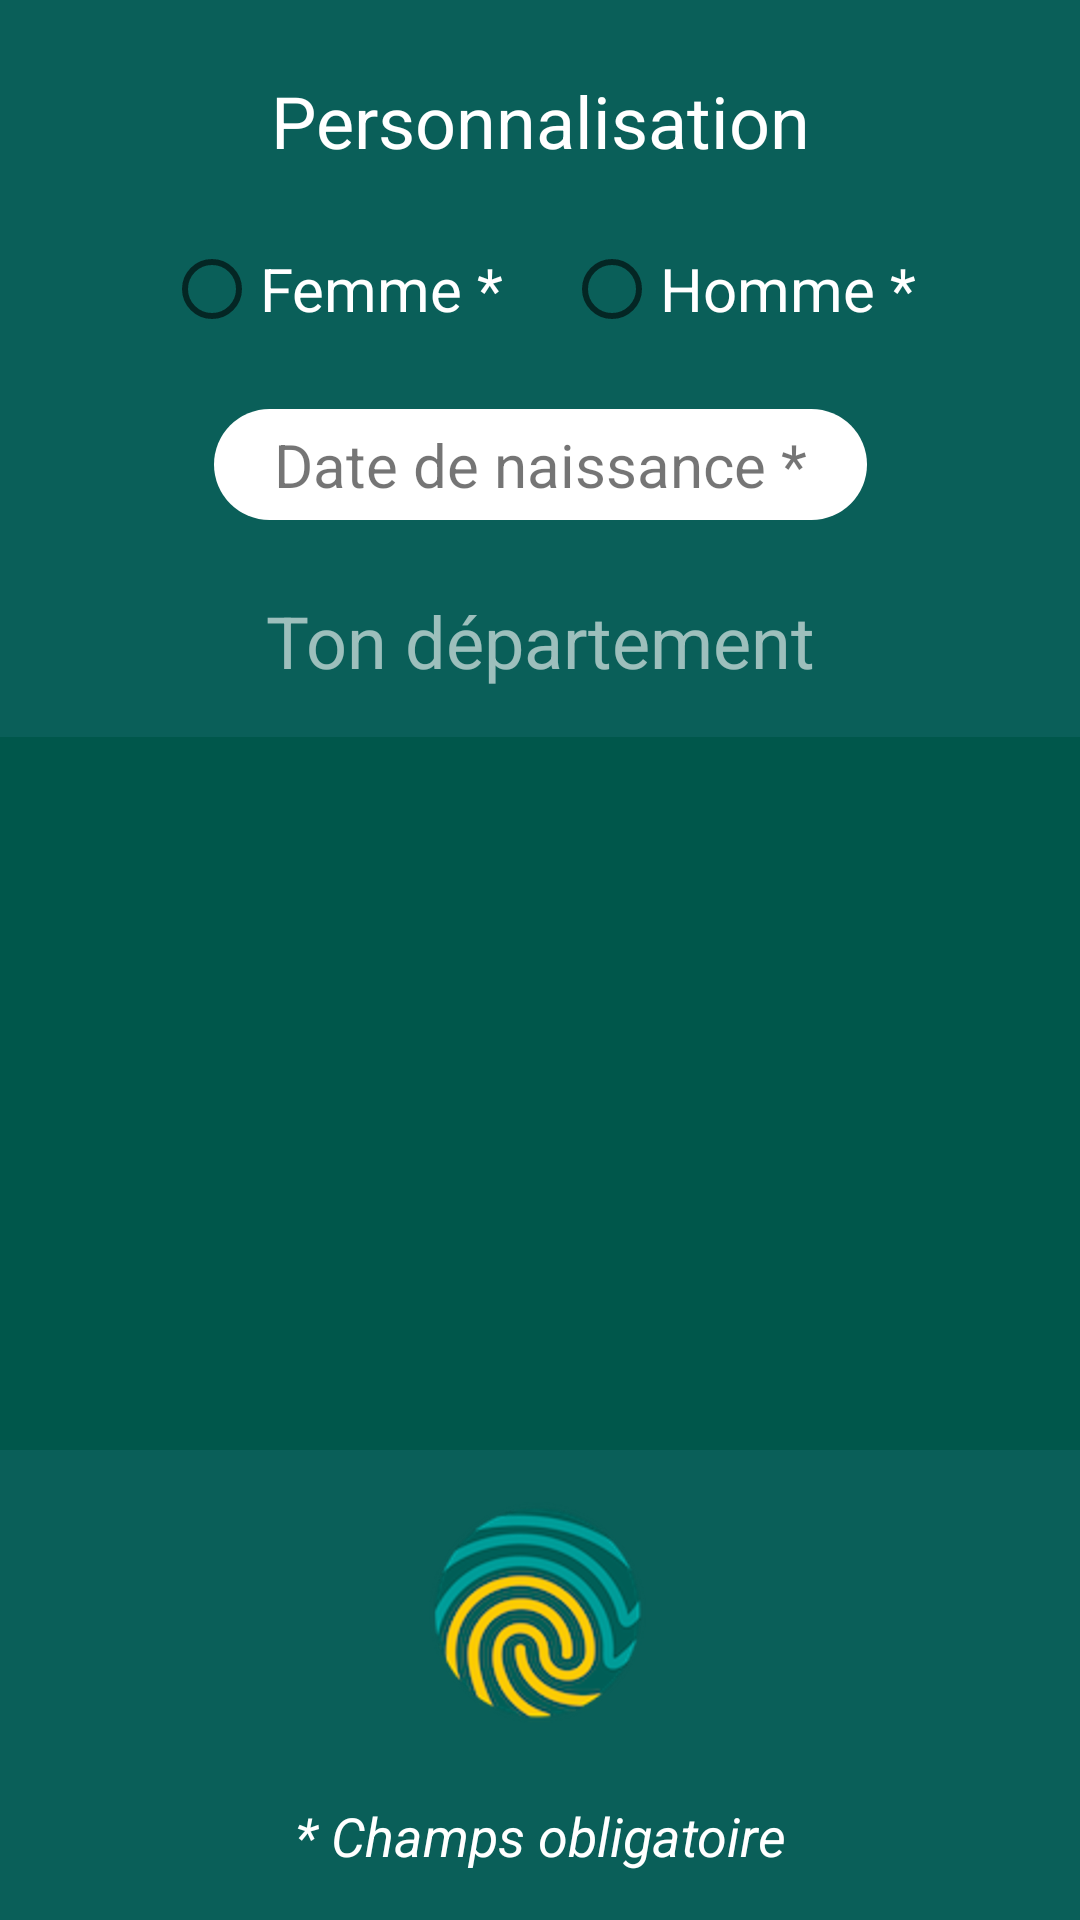

Icon click points for this 1080px x 1920px phone screenshot, format [x,y]:
empreinte: [537,1616]
